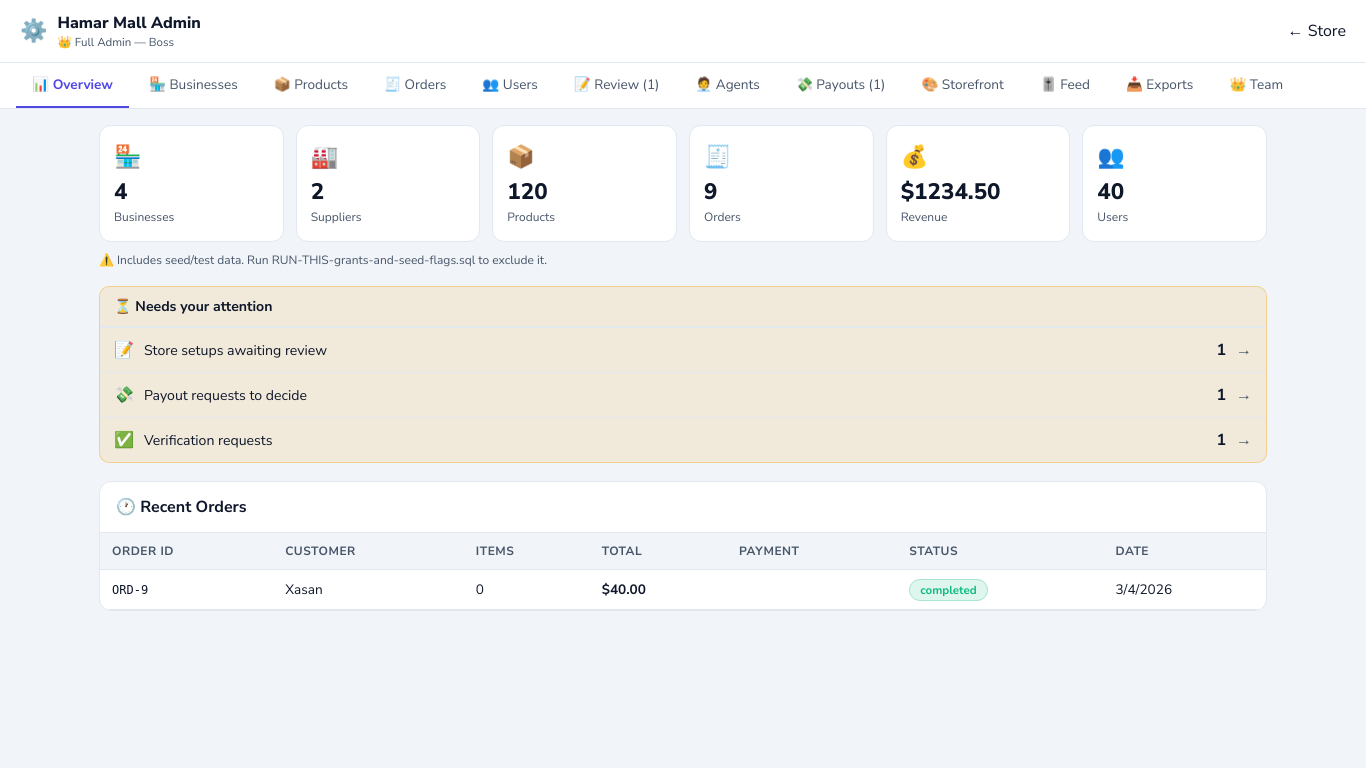
products › lists the catalog with a business filter
Click the button "📦 Products" at (311,86), box [258,63,364,108]
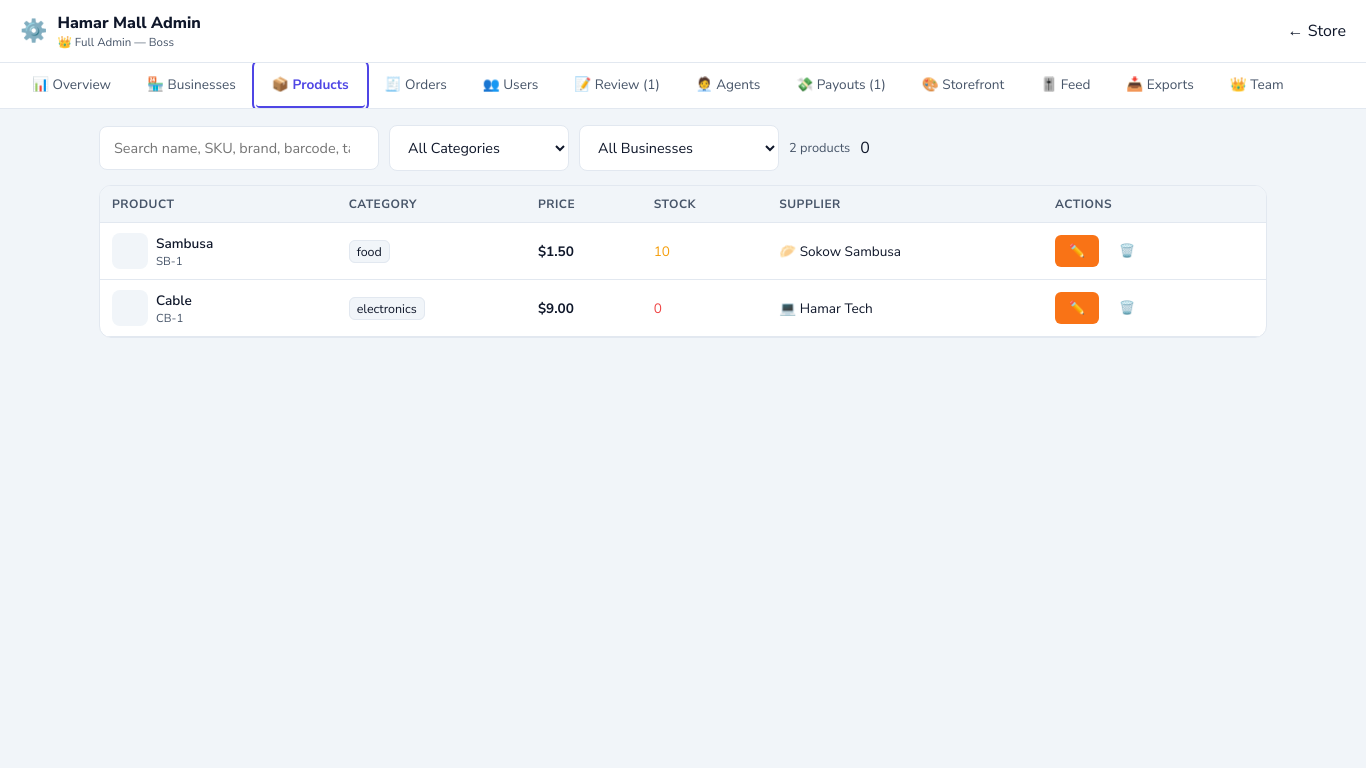
Expected: the text "Sambusa" is shown, [156,234,213,252]
Expected: the text "Cable" is shown, [156,290,192,310]
